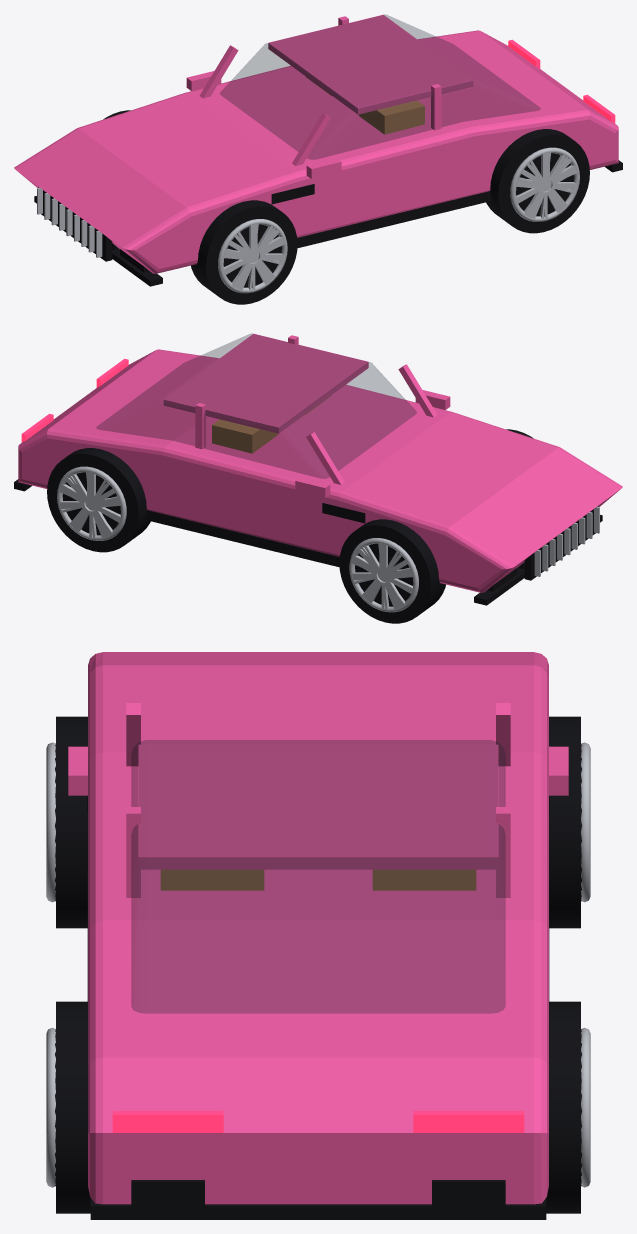
The model's file is amg.glb.
The picture shows the model from 3 angles, top to bottom: view 1: azimuth 30°, elevation 25°; view 2: azimuth 150°, elevation 25°; view 3: azimuth 270°, elevation 25°; orthographic projection. The views are drawn at different scales.
Parts seen in each view (by area): view 1: object 1, object 2, roof, object 50, object 122, object 12, object 171, object 124, object 52, object 51, object 123, object 173 (+6 smaller); view 2: object 1, object 2, roof, object 14, object 86, object 7, object 169, object 88, object 16, object 15, object 87, object 173 (+6 smaller); view 3: object 1, object 2, roof, object 86, object 122, object 168, object 14, object 50, object 161, object 165, object 159, object 163 (+12 smaller).
Part boxes in pixels (x1,y1,x2,y2): object 1: (14, 30, 618, 273); object 2: (220, 14, 540, 159); roof: (268, 14, 473, 114); object 50: (191, 200, 297, 304); object 122: (486, 129, 589, 233); object 12: (297, 191, 491, 248); object 171: (358, 100, 424, 134); object 124: (510, 147, 579, 221); object 52: (218, 219, 287, 293); object 51: (217, 218, 281, 287); object 123: (510, 148, 574, 216); object 173: (38, 187, 112, 261); object 1: (18, 349, 622, 592); object 2: (96, 333, 416, 478); roof: (163, 333, 368, 433); object 14: (339, 519, 445, 623); object 86: (47, 448, 150, 552); object 7: (145, 510, 339, 567); object 169: (212, 419, 278, 453); object 88: (57, 466, 126, 540); object 16: (349, 538, 418, 612); object 15: (355, 537, 419, 606); object 87: (62, 467, 126, 535); object 173: (524, 506, 598, 580); object 1: (88, 652, 548, 1204); object 2: (131, 740, 505, 1013); roof: (138, 744, 498, 869); object 86: (546, 1001, 580, 1213); object 122: (56, 1001, 90, 1213); object 168: (90, 1198, 546, 1219); object 14: (549, 716, 580, 928); object 50: (56, 716, 87, 928); object 161: (432, 1180, 505, 1213); object 165: (131, 1180, 204, 1213); object 159: (413, 1111, 524, 1132); object 163: (112, 1111, 223, 1132).
Size of the model in its own units: 4.68 by 1.38 by 2.21.
